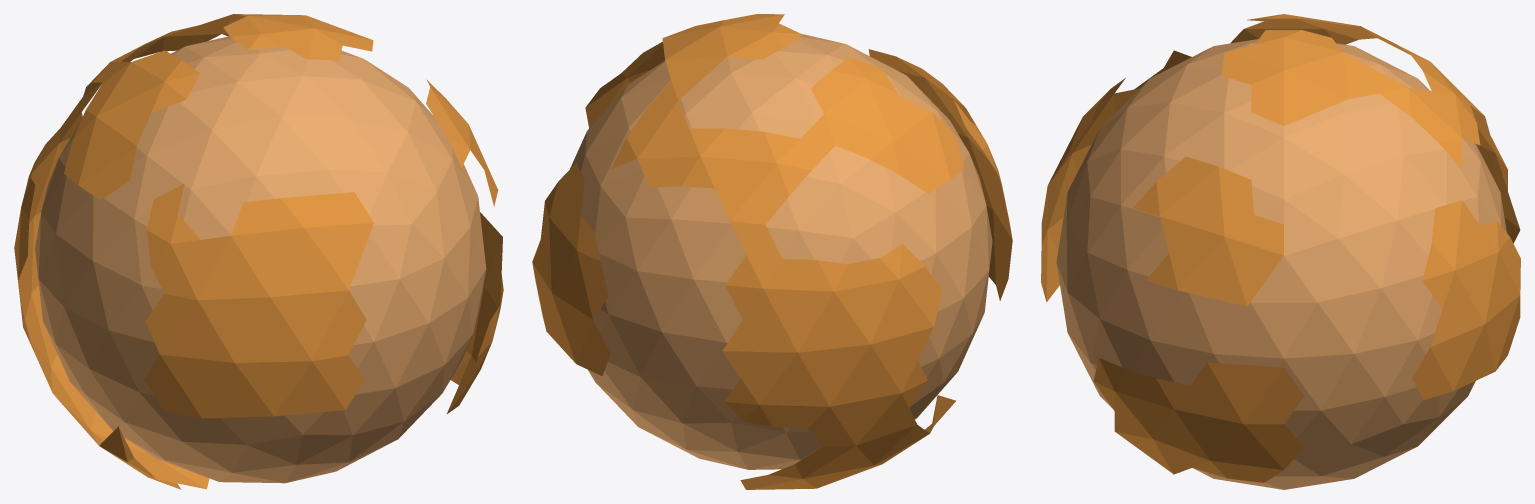
File: planete base.fbx
3 renders of one model, left to right at view 1: azimuth 30°, elevation 25°; view 2: azimuth 150°, elevation 25°; view 3: azimuth 270°, elevation 25°, orthographic. The views are drawn at different scales.
Visible parts, largest first — view 1: Icosphère, Icosphère.001; view 2: Icosphère.001, Icosphère; view 3: Icosphère, Icosphère.001.
Boxes of the visible parts, x1,y1,x2,y2 form: Icosphère: [35, 36, 486, 483]; Icosphère.001: [14, 14, 503, 489]; Icosphère.001: [532, 14, 1012, 489]; Icosphère: [570, 34, 992, 469]; Icosphère: [1056, 39, 1506, 489]; Icosphère.001: [1041, 14, 1520, 482].
Size of the model in its own units: 195 by 197 by 193.
